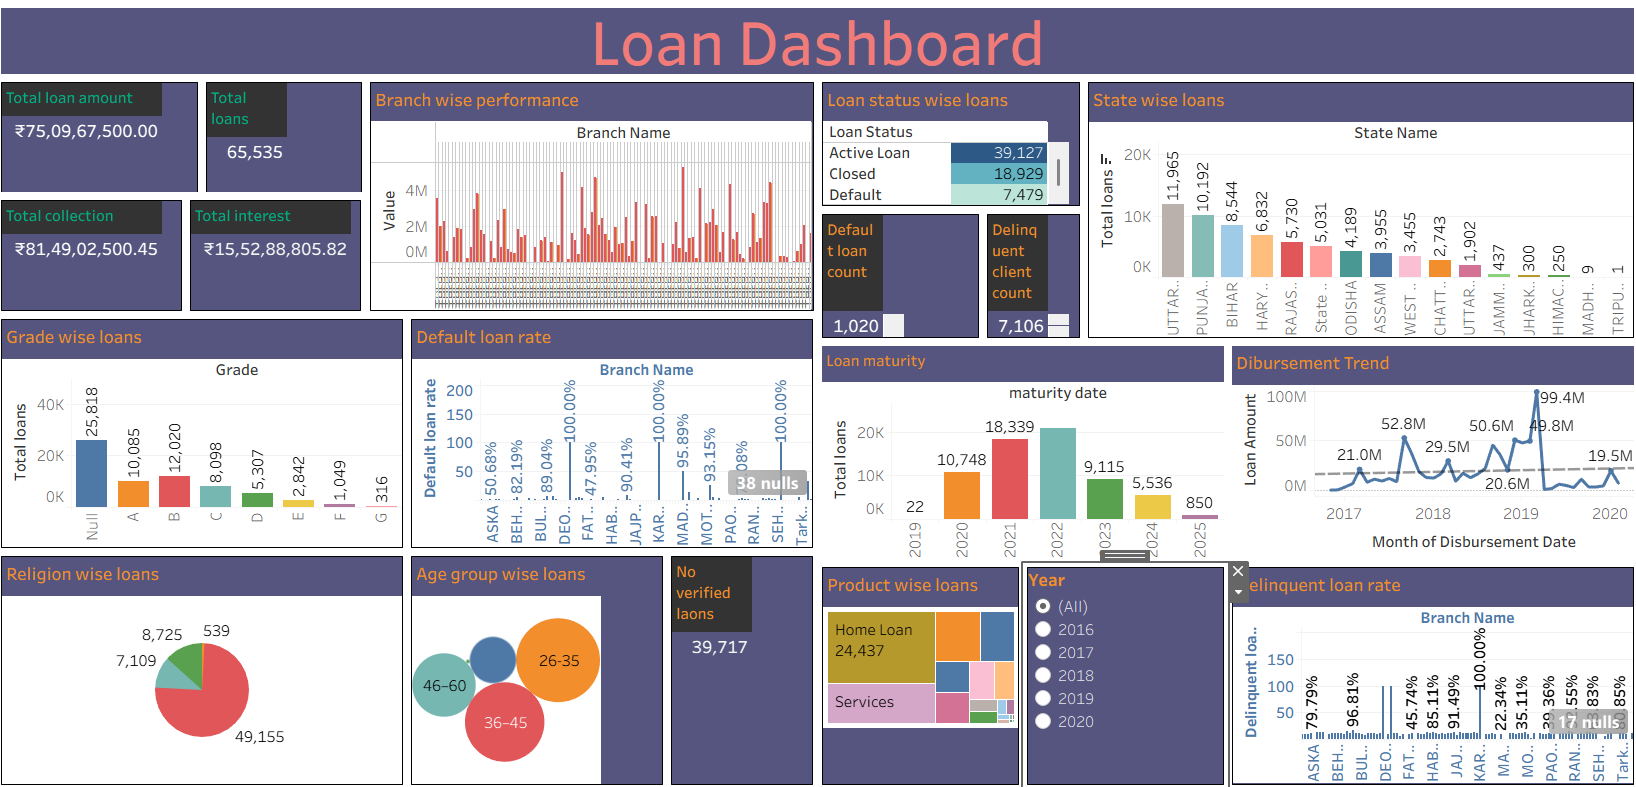

This screenshot's page, from the dashboard's own definition file:
{"tool":"tableau","page":{"name":"Dashboard 1","canvas":[1000,1000],"units":"permille","ordinal":0},"visuals":[{"type":"text","box":[4.8,10,990.3,92.3]},{"type":"worksheet","title":"Total loan amount","mark":"Automatic","box":[4.8,102.3,123.7,147.9]},{"type":"worksheet","title":"Total loans","mark":"Automatic","box":[128.6,102.3,98.9,147.9]},{"type":"worksheet","title":"Branch wise performance","mark":"Automatic","cols":["Branch Name"],"box":[227.4,102.3,272.6,295.9]},{"type":"worksheet","title":"loan status wise loans","mark":"Square","rows":["Loan Status"],"box":[500,102.3,160.8,164.8]},{"type":"worksheet","title":"State wise loans","mark":"Automatic","rows":["Calculation_1207527657234550785"],"cols":["State Name"],"box":[660.8,102.3,334.4,329.6]},{"type":"worksheet","title":"Total collection","mark":"Automatic","box":[4.8,250.3,114.3,147.9]},{"type":"worksheet","title":"Total interest","mark":"Automatic","box":[119.1,250.3,108.3,147.9]},{"type":"worksheet","title":"Default loan count","mark":"Automatic","box":[500,267.1,99.7,164.8]},{"type":"worksheet","title":"delinquent client count","mark":"Automatic","box":[599.7,267.1,61,164.8]},{"type":"worksheet","title":"Grade wise loans","mark":"Automatic","rows":["Calculation_1207527657234550785"],"cols":["Grade"],"box":[4.8,398.2,247.5,295.9]},{"type":"worksheet","title":"Default loan rate","mark":"Automatic","rows":["Calculation_1207527657252257801"],"cols":["Branch Name"],"box":[252.3,398.2,247.7,295.9]},{"type":"worksheet","title":"Loan maturity","mark":"Bar","rows":["Calculation_1207527657234550785"],"cols":["Calculation_1033013172388384771"],"box":[500,431.9,247.5,275.9]},{"type":"worksheet","title":"Dibursement trend","mark":"Line","rows":["Loan Amount"],"cols":["Disbursement Date"],"box":[747.5,431.9,247.7,275.9]},{"type":"worksheet","title":"Religion wise loans","mark":"Pie","box":[4.8,694.1,247.5,295.9]},{"type":"worksheet","title":"age group wise loans","mark":"Circle","box":[252.3,694.1,157,295.9]},{"type":"worksheet","title":"No verified loans","mark":"Automatic","box":[409.3,694.1,90.7,295.9]},{"type":"worksheet","title":" product group wise loans","mark":"Automatic","box":[500,707.9,123.8,282.2]},{"type":"filter","title":" product group wise loans","param":"[federated.1tzqoiv0fglxx61gp8fcl180mn5q].[none:year:ok]","box":[623.8,707.9,124,282.2]},{"type":"worksheet","title":"Delinquent loan rate","mark":"Automatic","rows":["Calculation_1207527657250447368"],"cols":["Branch Name"],"box":[747.8,707.9,247.4,282.2]}]}

Visuals, with their boxes on the dashboard's canvas, which has no fixed pixel size, in thousandths of its width and height (x1, y1, x2, y2). These are canvas units, not pixel positions in the 1636x787 screenshot, which may show the page scaled, cropped or inside an application window:
text: pyautogui.locateOnScreen(5, 10, 995, 102)
"Total loan amount" worksheet: pyautogui.locateOnScreen(5, 102, 128, 250)
"Total loans" worksheet: pyautogui.locateOnScreen(129, 102, 228, 250)
"Branch wise performance" worksheet: pyautogui.locateOnScreen(227, 102, 500, 398)
"loan status wise loans" worksheet (Square marks): pyautogui.locateOnScreen(500, 102, 661, 267)
"State wise loans" worksheet: pyautogui.locateOnScreen(661, 102, 995, 432)
"Total collection" worksheet: pyautogui.locateOnScreen(5, 250, 119, 398)
"Total interest" worksheet: pyautogui.locateOnScreen(119, 250, 227, 398)
"Default loan count" worksheet: pyautogui.locateOnScreen(500, 267, 600, 432)
"delinquent client count" worksheet: pyautogui.locateOnScreen(600, 267, 661, 432)
"Grade wise loans" worksheet: pyautogui.locateOnScreen(5, 398, 252, 694)
"Default loan rate" worksheet: pyautogui.locateOnScreen(252, 398, 500, 694)
"Loan maturity" worksheet (Bar marks): pyautogui.locateOnScreen(500, 432, 748, 708)
"Dibursement trend" worksheet (Line marks): pyautogui.locateOnScreen(748, 432, 995, 708)
"Religion wise loans" worksheet (Pie marks): pyautogui.locateOnScreen(5, 694, 252, 990)
"age group wise loans" worksheet (Circle marks): pyautogui.locateOnScreen(252, 694, 409, 990)
"No verified loans" worksheet: pyautogui.locateOnScreen(409, 694, 500, 990)
" product group wise loans" worksheet: pyautogui.locateOnScreen(500, 708, 624, 990)
" product group wise loans" filter: pyautogui.locateOnScreen(624, 708, 748, 990)
"Delinquent loan rate" worksheet: pyautogui.locateOnScreen(748, 708, 995, 990)
